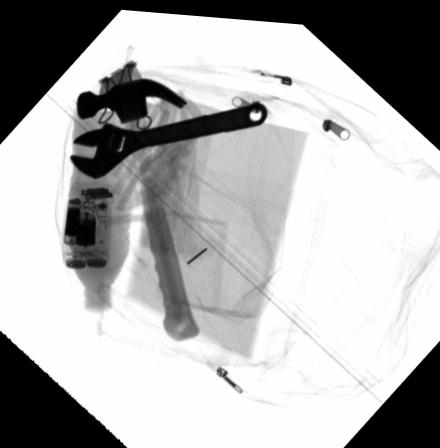Hammer: (76, 76, 200, 341)
Wrench: (68, 97, 267, 177)
